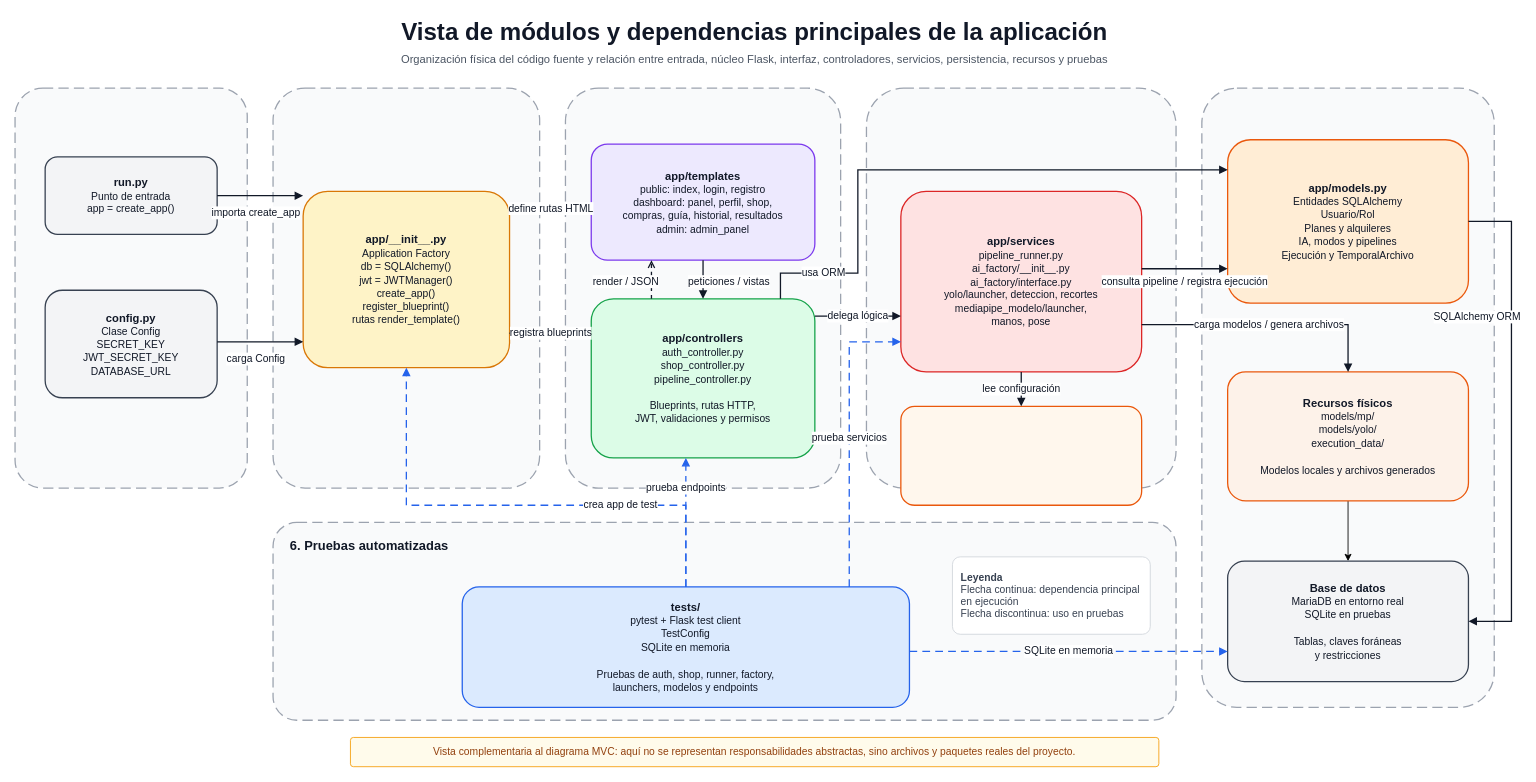
Image size: 1536x782. Some labels were removed from this diagram. The shapes that lost their labels are listed below. From the top down, each one's box as (x1, y1, x2, y2) in pixels, then its label:
(14, 87, 248, 488): 1. Entrada y configuración
(272, 87, 540, 488): 2. Núcleo Flask
(564, 87, 841, 488): 3. Interfaz y API
(865, 87, 1176, 488): 4. Servicios y procesamiento
(1201, 87, 1495, 708): 5. Persistencia y recursos
(900, 405, 1142, 506): configs/ mp_manos.json mp_pose.json yolo_deteccion.json yolo_recortes.json
